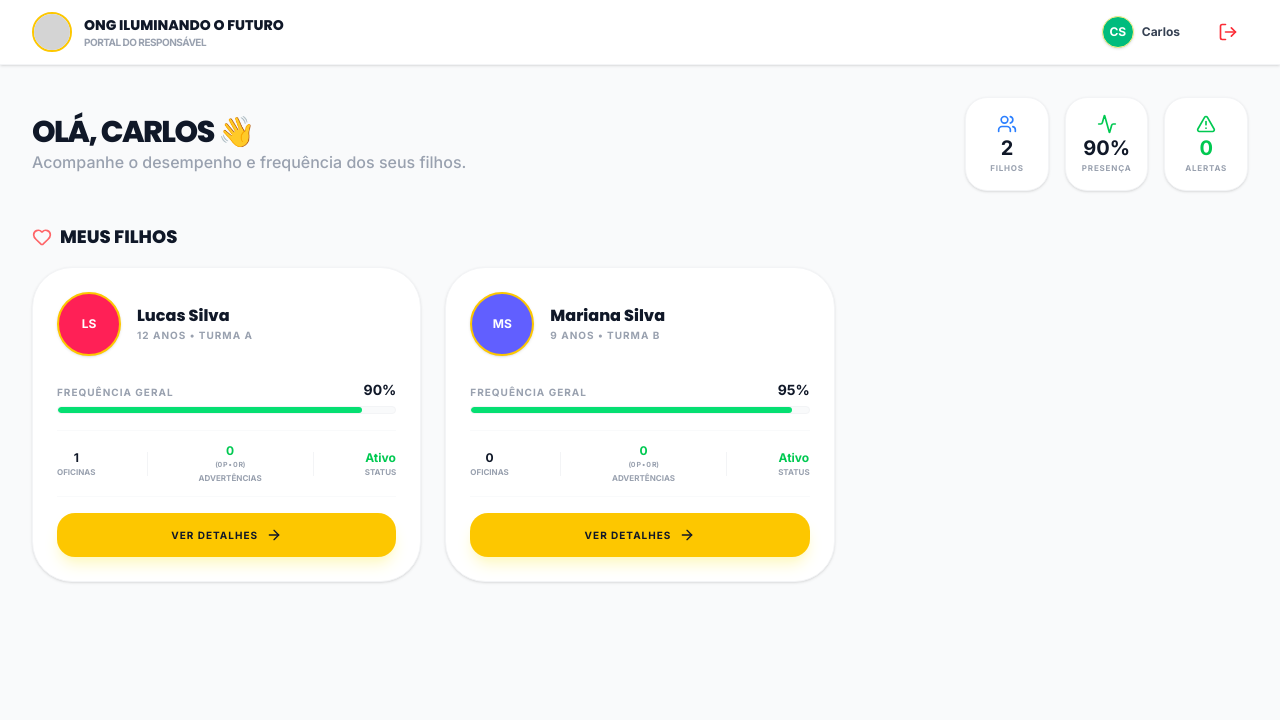
Test: PortalResponsavel › it should display child name in table headers and rows when multiple children are linked
The width and height of the screenshot is (1280, 720).
Abre os detalhes de Lucas Silva
Click the button "Ver Detalhes" below "12". click: (227, 535)
box: left=57, top=513, right=396, bottom=557
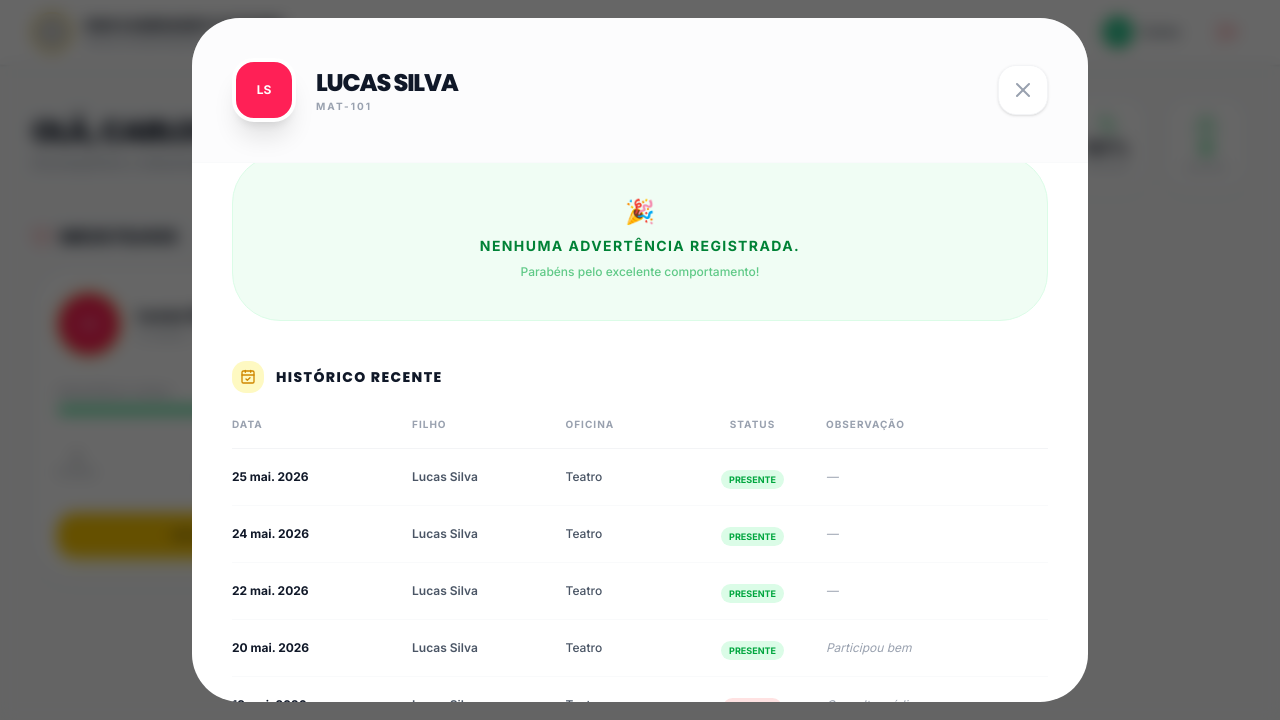
Result: the column heading "Filho" is shown at left=412, top=417, right=566, bottom=448
